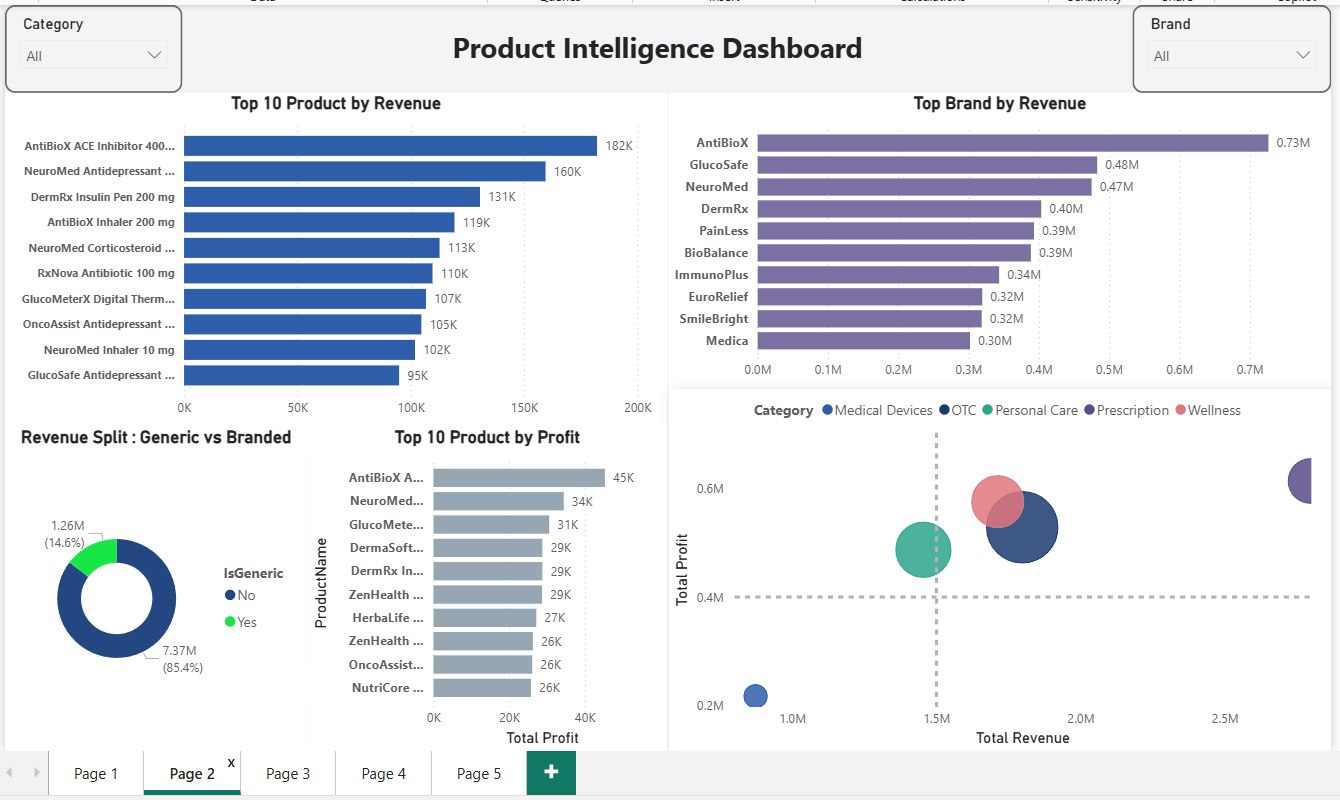

What the dashboard file says about the page in this screenshot:
{"tool":"powerbi","page":{"name":"Page 2","canvas":[1280,720],"ordinal":1},"visuals":[{"type":"clusteredBarChart","title":"Top 10 Product by Revenue","fields":{"Category":["DimProduct_Final.ProductName"],"Y":["Measures_Table.Total Revenue"]},"box":[0,84.5,639.4,322.1],"z":0},{"type":"clusteredBarChart","title":"Top Brand by Revenue","fields":{"Category":["DimProduct_Final.Brand"],"Y":["Measures_Table.Total Revenue"]},"box":[640.6,84.5,639.4,285.9],"z":1000},{"type":"donutChart","title":"Revenue Split : Generic vs Branded","fields":{"Category":["DimProduct_Final.IsGeneric"],"Y":["Measures_Table.Total Revenue"]},"box":[0,406.6,292,313.7],"z":2000},{"type":"scatterChart","fields":{"X":["Measures_Table.Total Revenue"],"Y":["Measures_Table.Total Profit"],"Series":["DimProduct_Final.Category"],"Size":["Measures_Table.Total Units Sold"]},"box":[640.6,370.4,639.4,349.9],"z":3000},{"type":"clusteredBarChart","title":"Top 10 Product by Profit","fields":{"Category":["DimProduct_Final.ProductName"],"Y":["Measures_Table.Total Profit"]},"box":[292,406.6,347.5,313.7],"z":4000},{"type":"slicer","fields":{"Values":["DimProduct_Final.Category"]},"box":[0,0,171.3,84.5],"z":5000},{"type":"slicer","fields":{"Values":["DimProduct_Final.Brand"]},"box":[1088.2,0,191.8,84.5],"z":6000},{"type":"textbox","box":[171.3,0,916.9,84.5],"z":7000}]}

Visuals, with their boxes on the page's 1280x720 design canvas (x1, y1, x2, y2). These are canvas units, not pixel positions in the 1340x800 screenshot, which may show the page scaled, cropped or inside an application window:
"Top 10 Product by Revenue" clusteredBarChart: x1=0, y1=84, x2=639, y2=407
"Top Brand by Revenue" clusteredBarChart: x1=641, y1=84, x2=1280, y2=370
"Revenue Split : Generic vs Branded" donutChart: x1=0, y1=407, x2=292, y2=720
scatterChart - Measures_Table.Total Revenue x Measures_Table.Total Profit: x1=641, y1=370, x2=1280, y2=720
"Top 10 Product by Profit" clusteredBarChart: x1=292, y1=407, x2=640, y2=720
slicer - DimProduct_Final.Category: x1=0, y1=0, x2=171, y2=84
slicer - DimProduct_Final.Brand: x1=1088, y1=0, x2=1280, y2=84
textbox: x1=171, y1=0, x2=1088, y2=84
